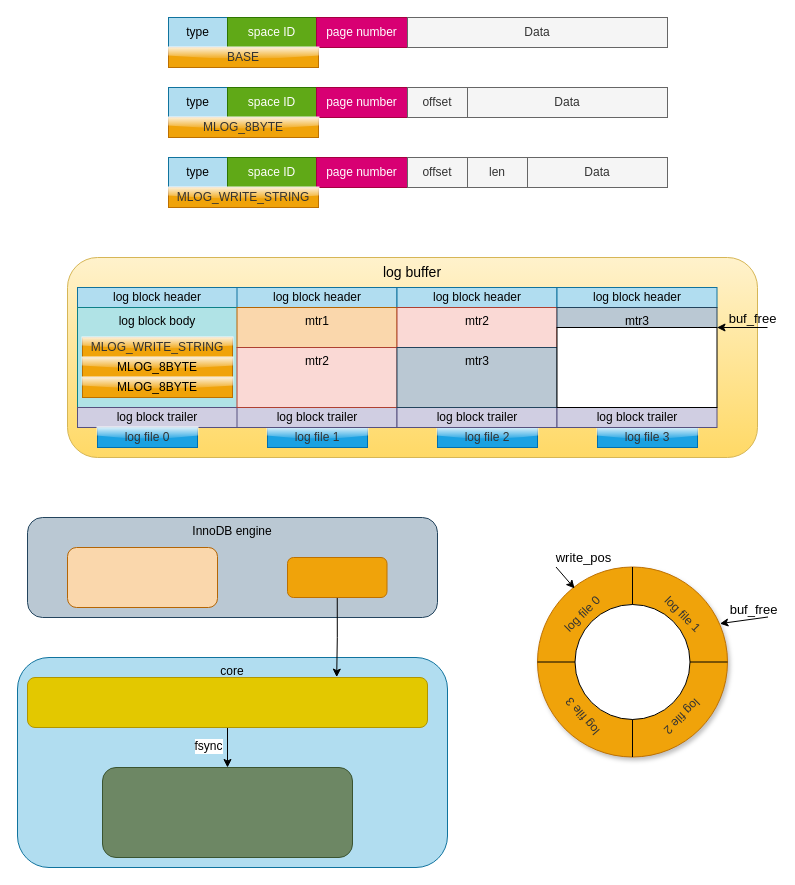
Some shapes in this 795 by 885 pixel diagram are drawn without their labels. The centre of each missing label's shape, as x and y in pixels:
Buffer Pool: the point at 142,577
hard disk: the point at 227,812
page cache: the point at 227,702
redo log buffer: the point at 336,577
